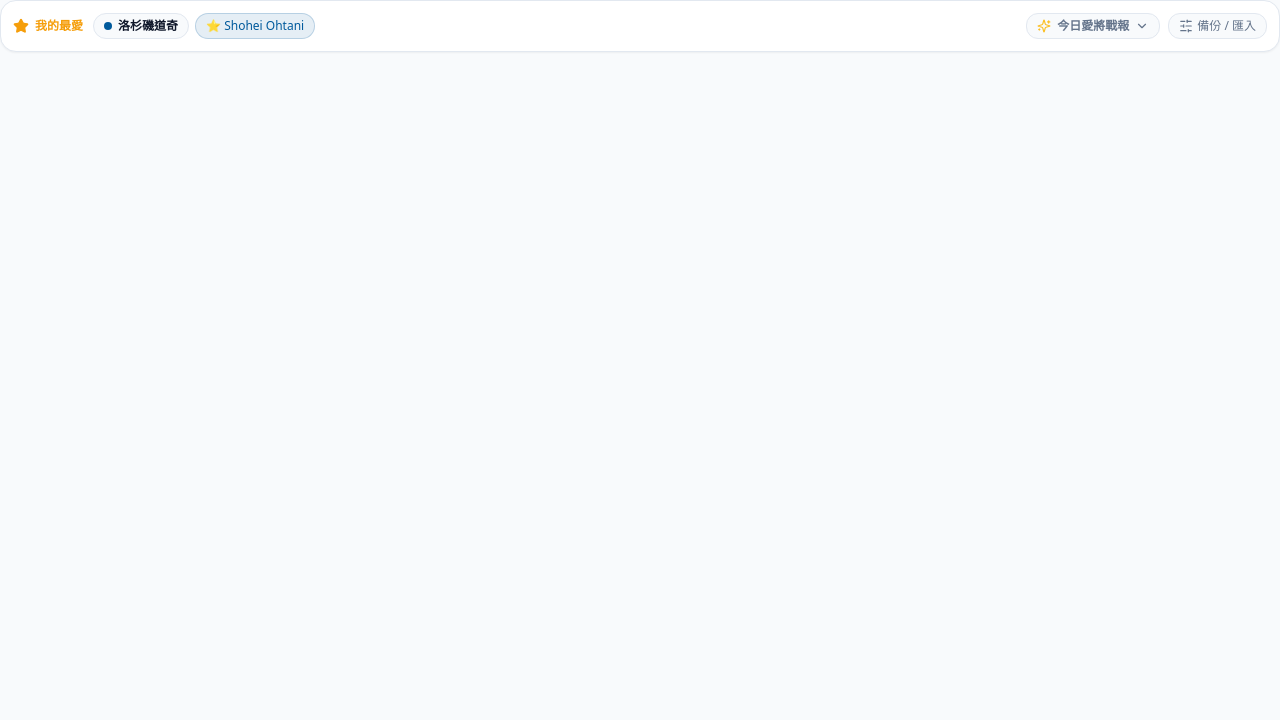
Test: FavoritesBar component › toggles summary drawer and opens backup modal
// Toggle Summary Drawer
Click the button "今日愛將戰報" at [1093, 26], box [1026,13,1160,39]
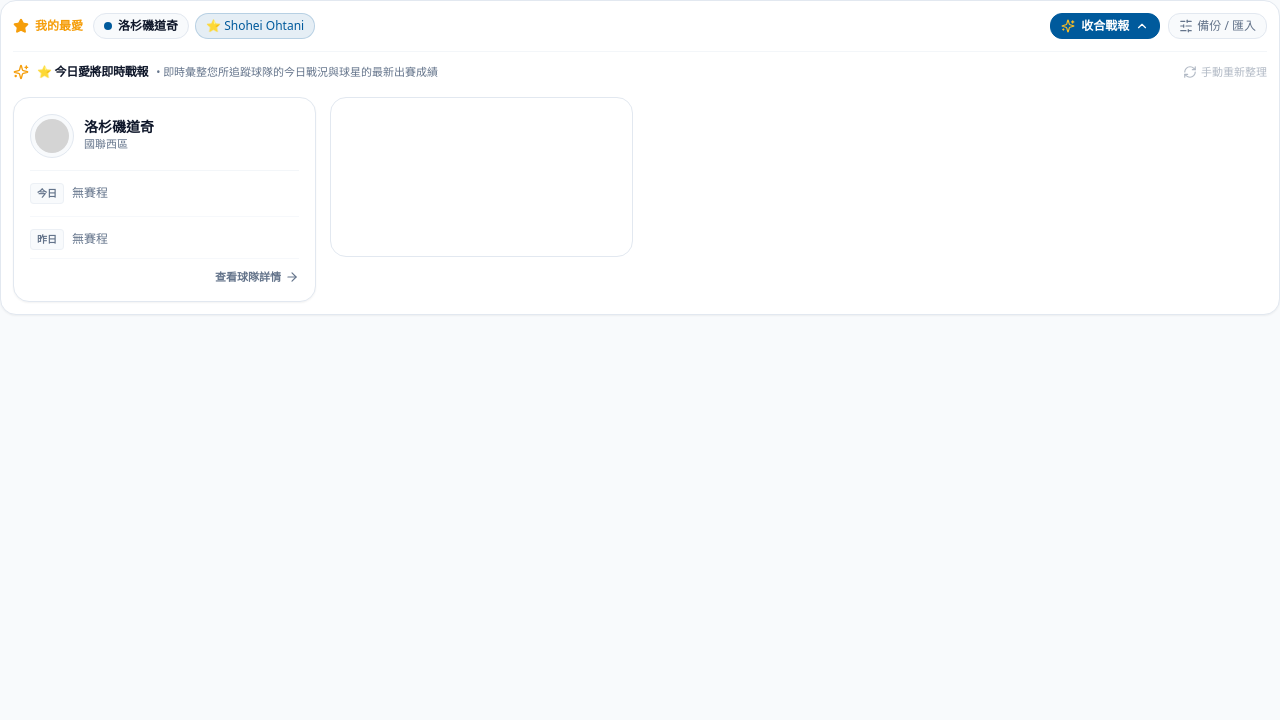
Expected: the text "收合戰報" is shown, [1081,18,1129,34]
// Open Backup Modal
Click the button "備份 / 匯入" at [1218, 26], box [1168,13,1267,39]
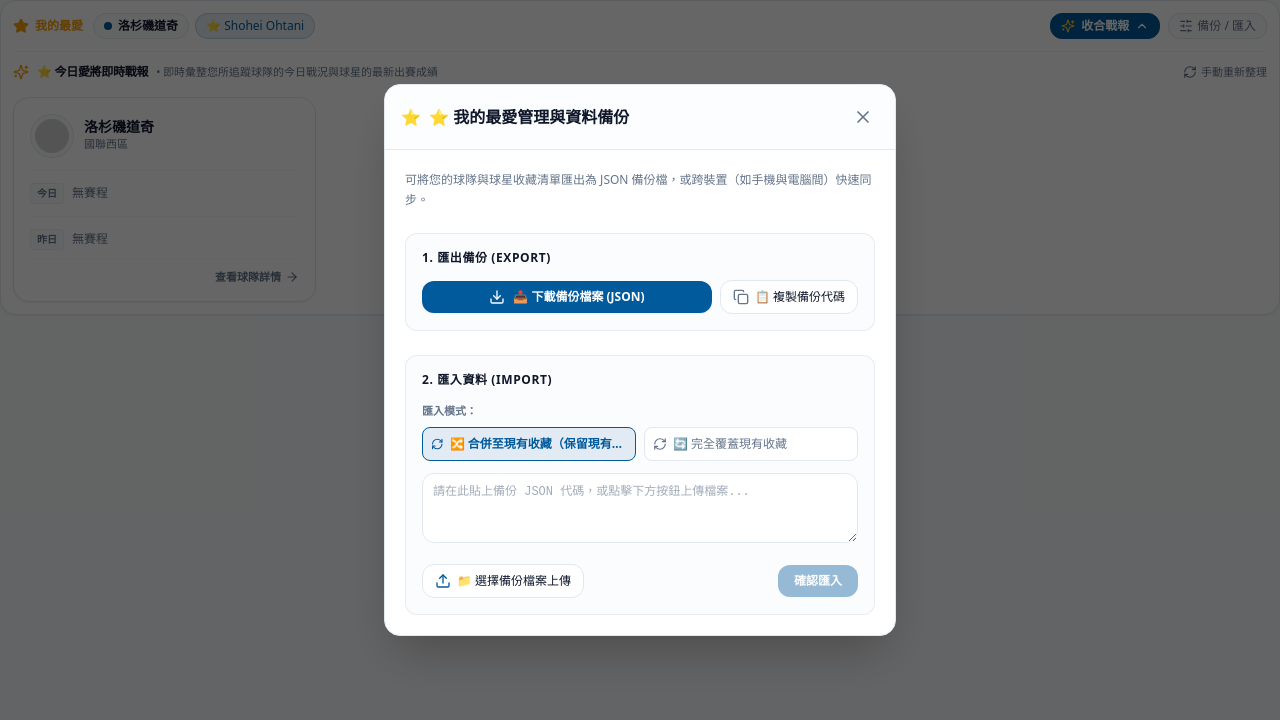
Expected: the text "⭐ 我的最愛管理與資料備份" is shown, [429,105,629,129]
